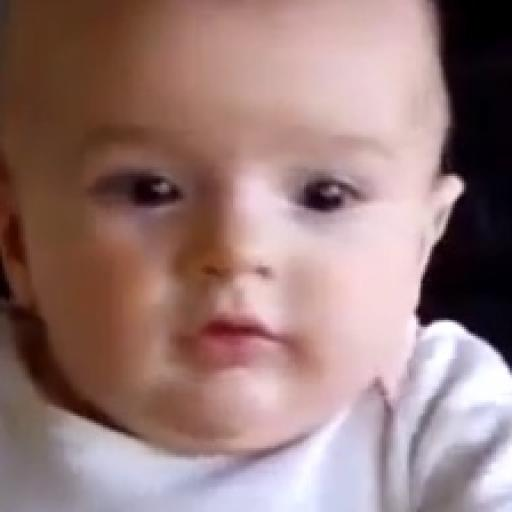Autism: (22, 8, 512, 461)
